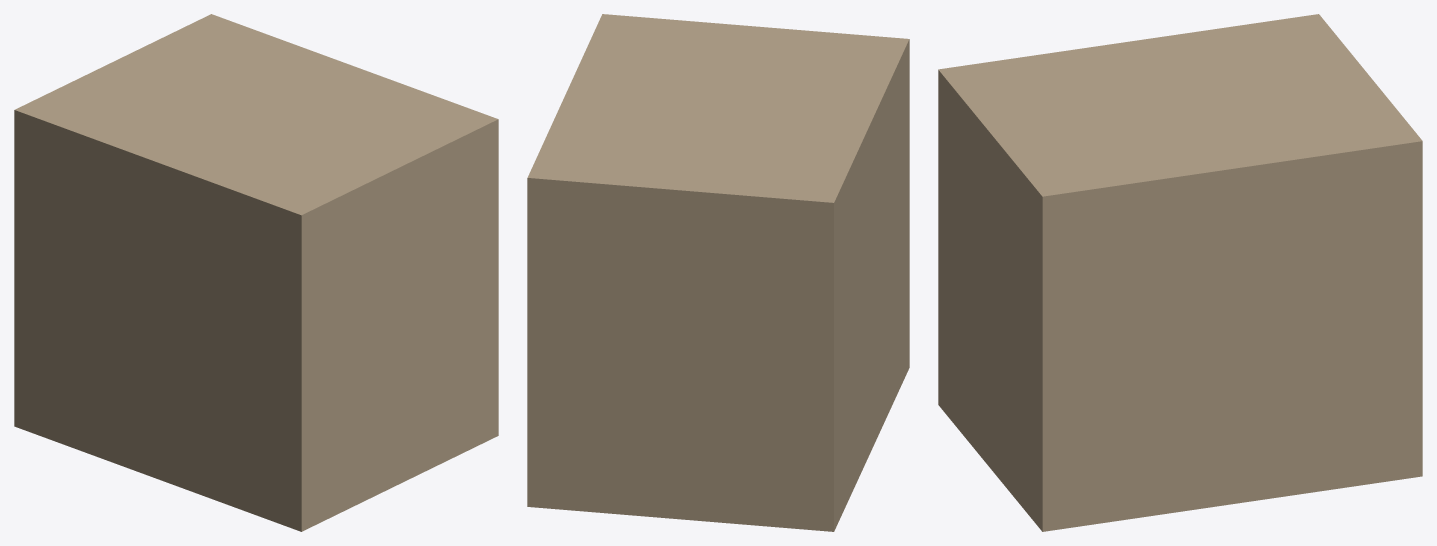
File: bld_100469723.dae
3 views of the same model, side by side, from view 1: azimuth 30°, elevation 25°; view 2: azimuth 150°, elevation 25°; view 3: azimuth 270°, elevation 25° (orthographic). The views are drawn at different scales.
Parts seen in each view (by area): view 1: bld_100469723; view 2: bld_100469723; view 3: bld_100469723.
Part boxes in pixels (x1,y1,x2,y2): bld_100469723: (14, 14, 498, 531); bld_100469723: (527, 14, 909, 531); bld_100469723: (938, 14, 1422, 531).
Bounding box in the file's own units: 9.35 × 10.48 × 8.
